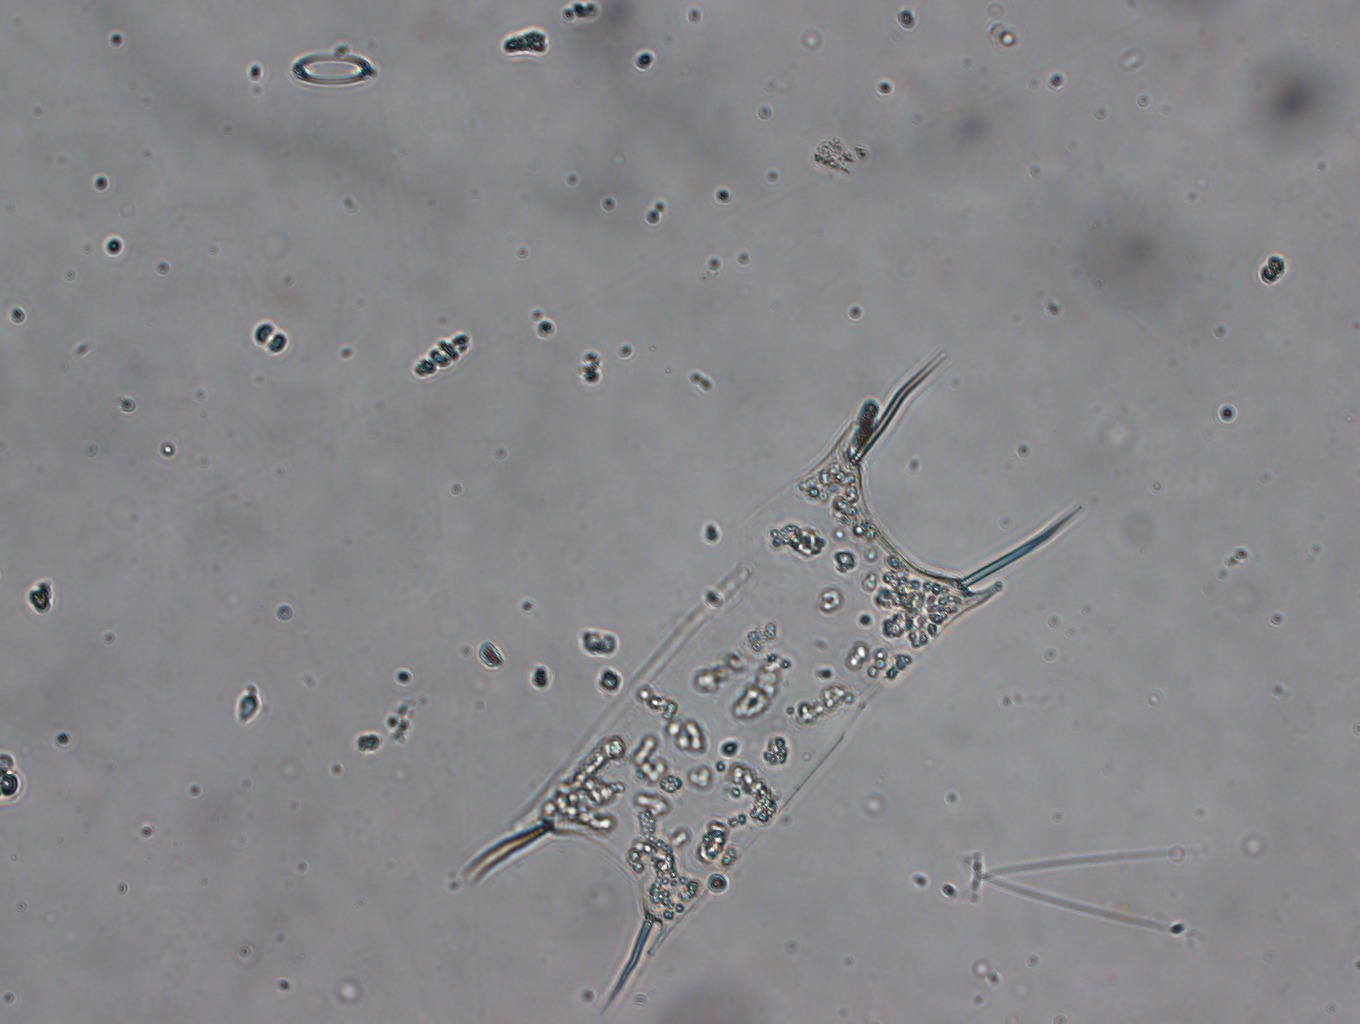biddulphia: (454, 353, 1089, 1018)
